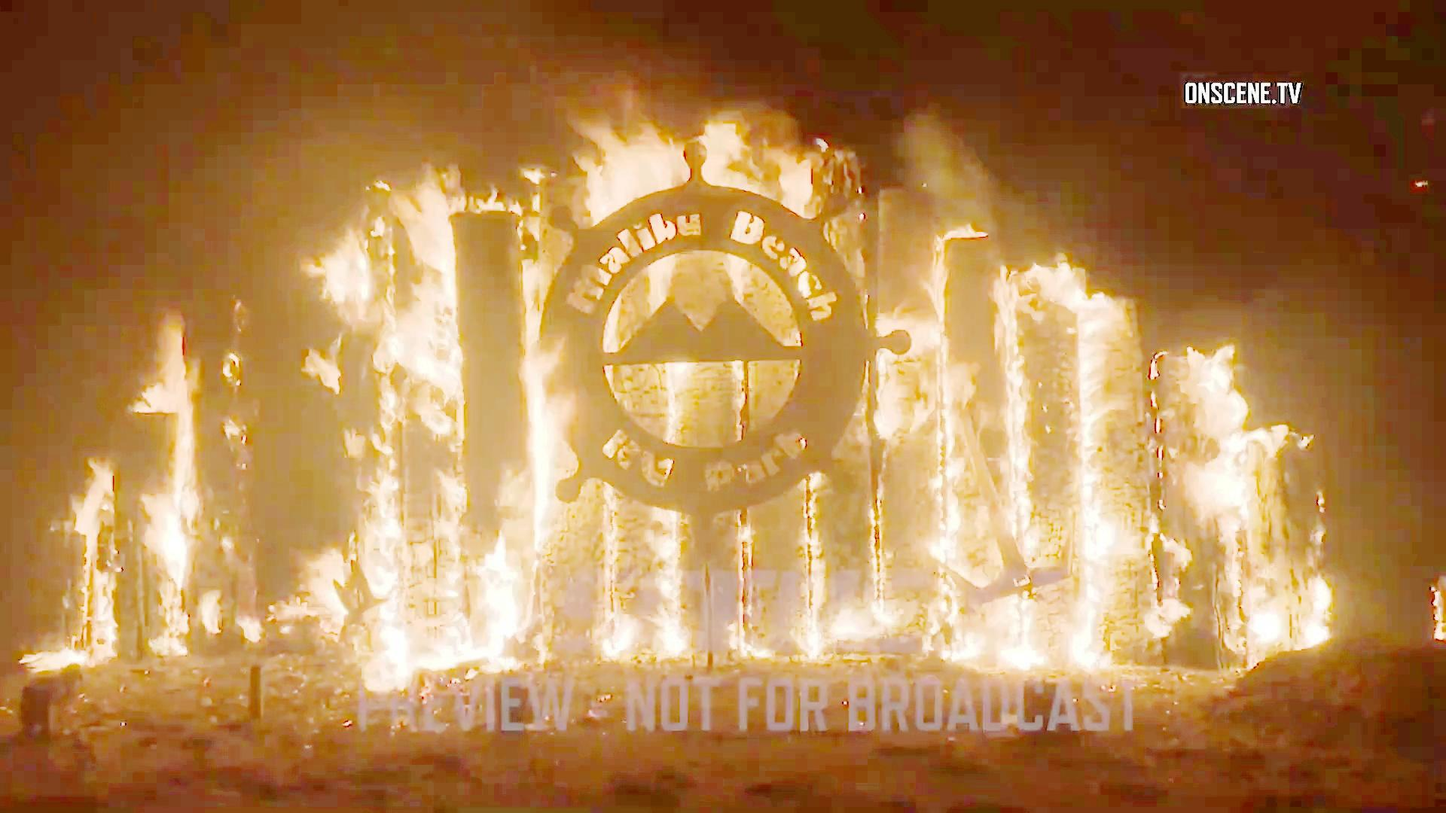fire: (942, 245, 1162, 666), (332, 168, 489, 444)
